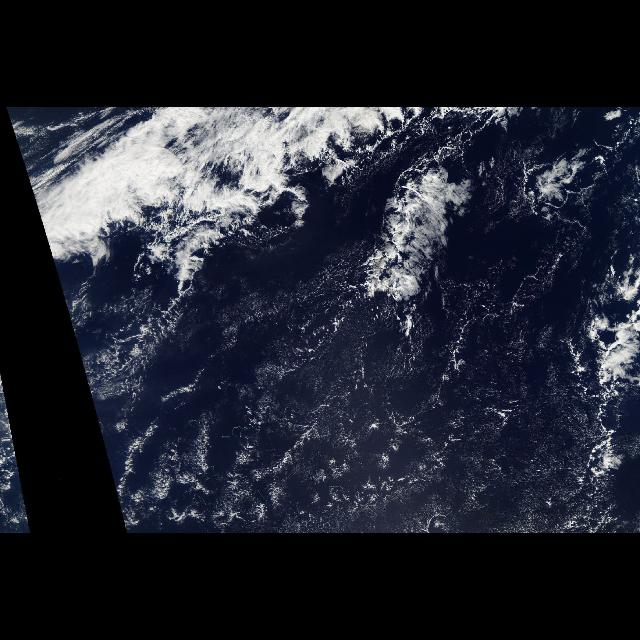Fish: (324, 130, 486, 328), (572, 252, 640, 492)
Gravel: (374, 150, 616, 246), (549, 274, 635, 532)
Sugar: (150, 308, 576, 528)
